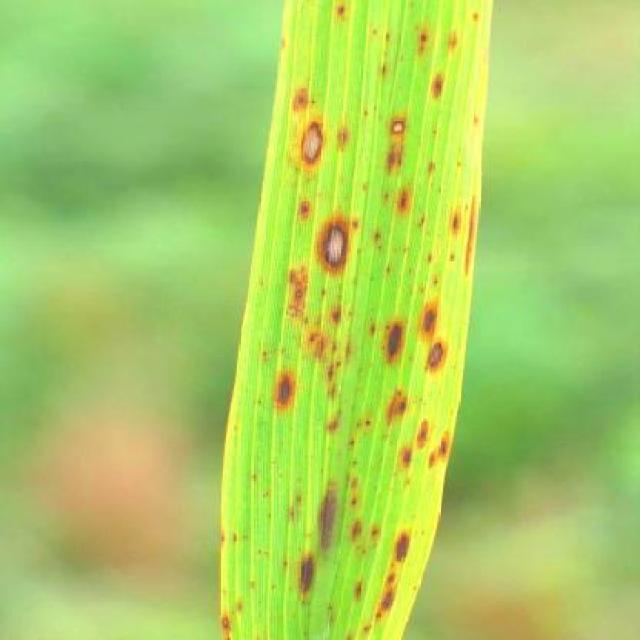Bacterial_Leaf_Blight: (371, 111, 422, 178), (315, 219, 354, 270), (297, 119, 329, 168), (387, 530, 411, 567), (426, 337, 448, 372)
Leaf_Blast: (212, 526, 288, 640), (283, 273, 365, 369), (312, 472, 381, 562), (230, 458, 308, 532), (307, 359, 358, 447), (370, 238, 438, 296), (352, 20, 408, 89), (392, 242, 452, 302), (301, 480, 347, 557), (367, 230, 415, 287), (233, 465, 285, 517), (285, 552, 326, 605), (278, 188, 325, 234), (334, 422, 378, 470), (220, 527, 280, 562), (342, 517, 387, 563), (418, 153, 473, 190), (375, 382, 420, 426), (402, 20, 443, 66), (373, 317, 410, 365), (340, 471, 378, 517), (269, 369, 303, 418), (314, 0, 368, 29), (385, 182, 423, 223), (274, 488, 311, 529), (415, 70, 454, 107), (285, 82, 321, 118), (313, 598, 347, 636), (371, 577, 398, 621), (332, 121, 365, 156), (209, 607, 243, 640), (269, 29, 305, 60), (348, 409, 381, 442), (340, 574, 372, 608), (413, 302, 441, 340), (218, 526, 256, 554), (438, 27, 472, 58), (414, 243, 448, 274), (363, 224, 395, 256), (357, 519, 388, 552), (442, 248, 472, 282), (246, 343, 282, 371), (349, 97, 383, 125), (420, 120, 454, 148), (418, 157, 450, 186), (246, 271, 279, 298), (458, 108, 490, 135), (390, 443, 416, 475), (442, 208, 466, 240), (461, 4, 490, 30), (410, 419, 435, 446), (439, 244, 464, 271), (225, 415, 253, 439), (409, 212, 437, 236), (358, 316, 382, 344), (352, 618, 379, 640), (235, 302, 259, 326), (395, 474, 420, 497), (227, 377, 253, 398), (245, 392, 269, 413), (292, 0, 332, 12), (438, 400, 460, 420), (435, 434, 451, 460), (422, 453, 438, 476), (403, 578, 420, 597)
